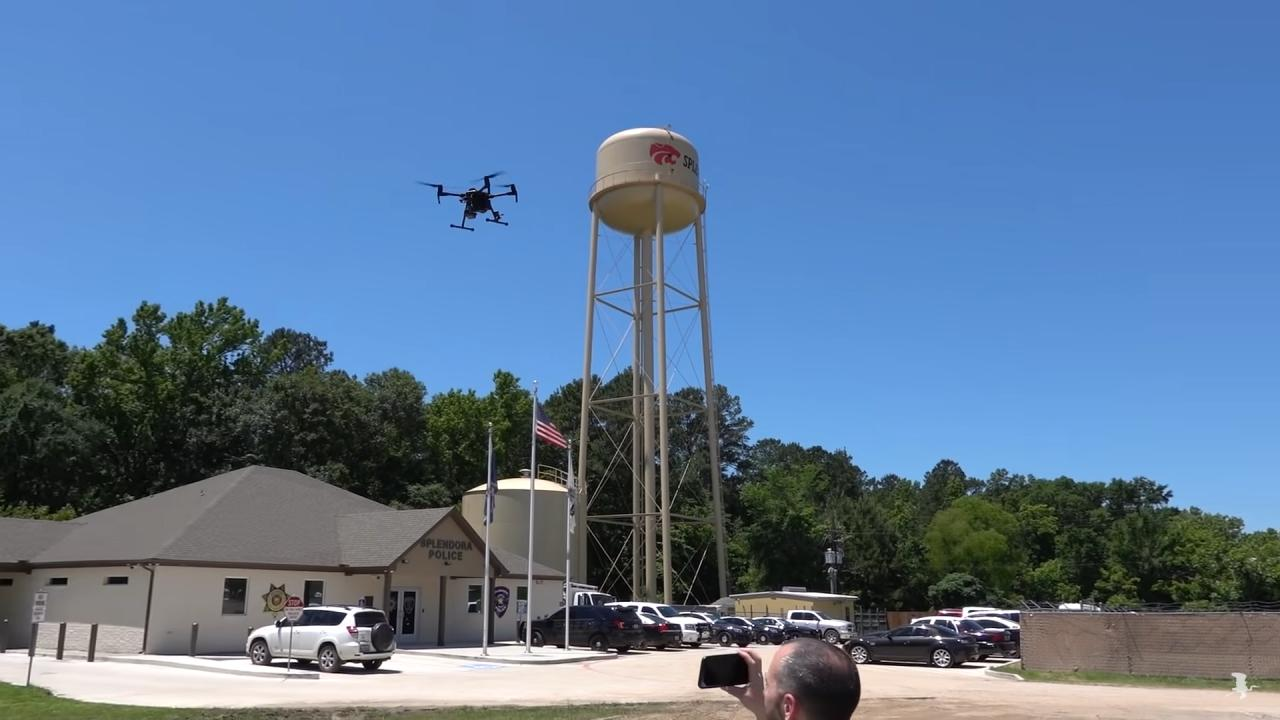Drone: (407, 161, 531, 242)
